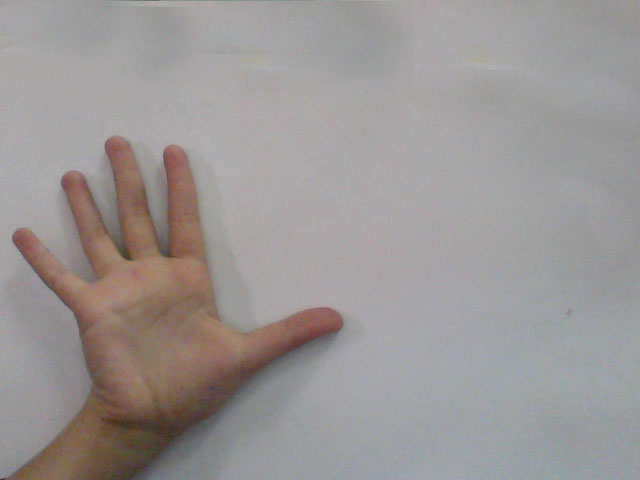hand: (9, 131, 367, 410)
